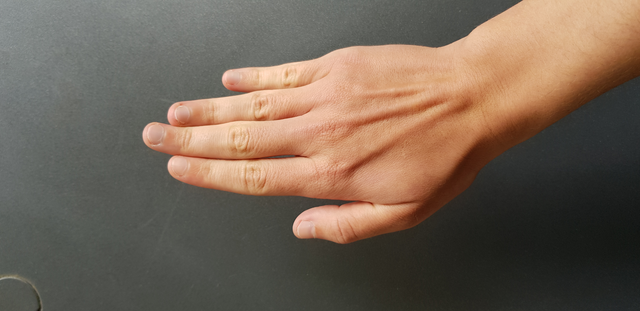Paper: (107, 43, 494, 252)
